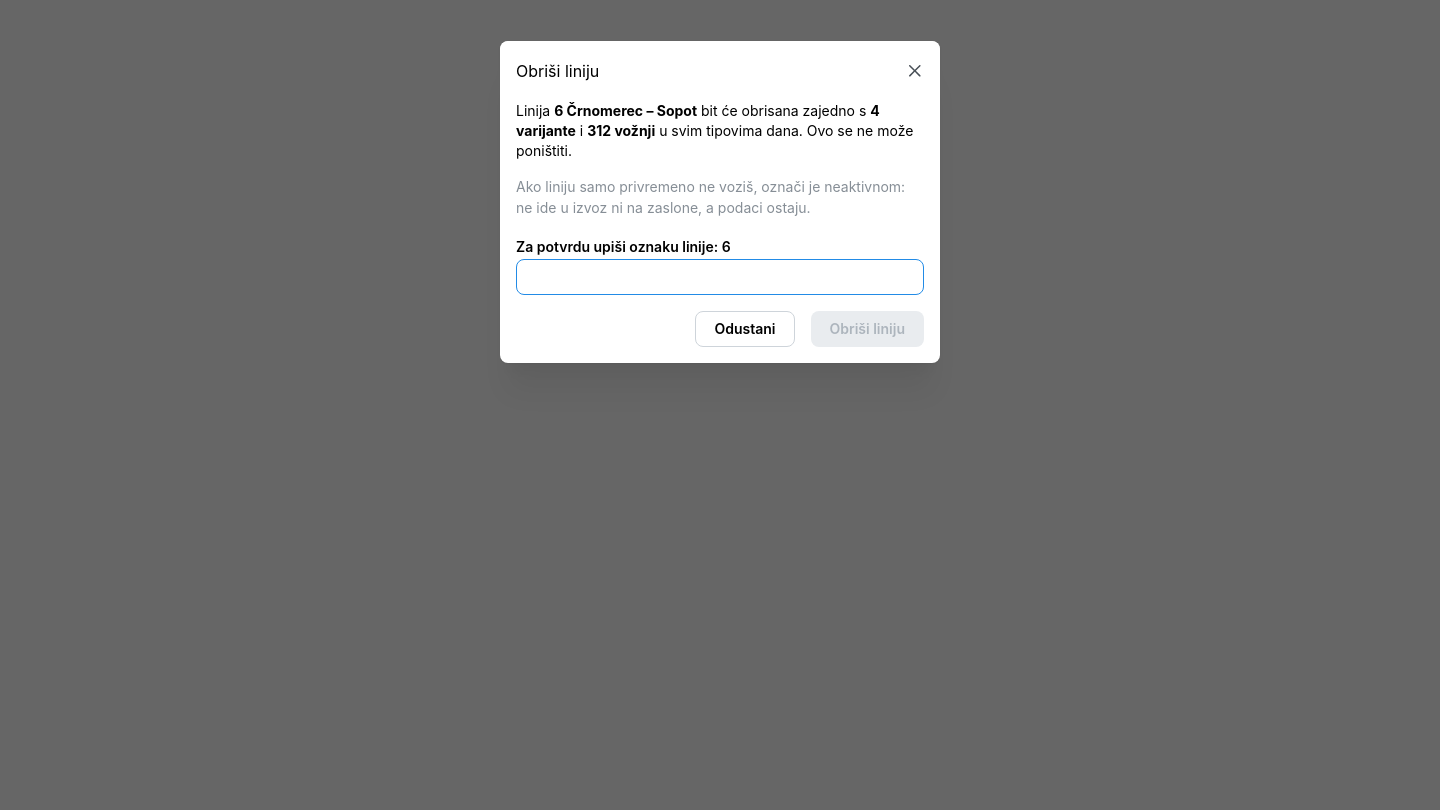
DeleteRouteDialog › names what goes with the route and waits for its label
Expected: the text "4 varijante" is shown, [516,102,880,139]
Expected: the text "312 vožnji" is shown, [587,122,655,139]
Type "6" into the field labelled "Za potvrdu upiši oznaku linije: 6" at (720, 277), box [516,259,924,295]
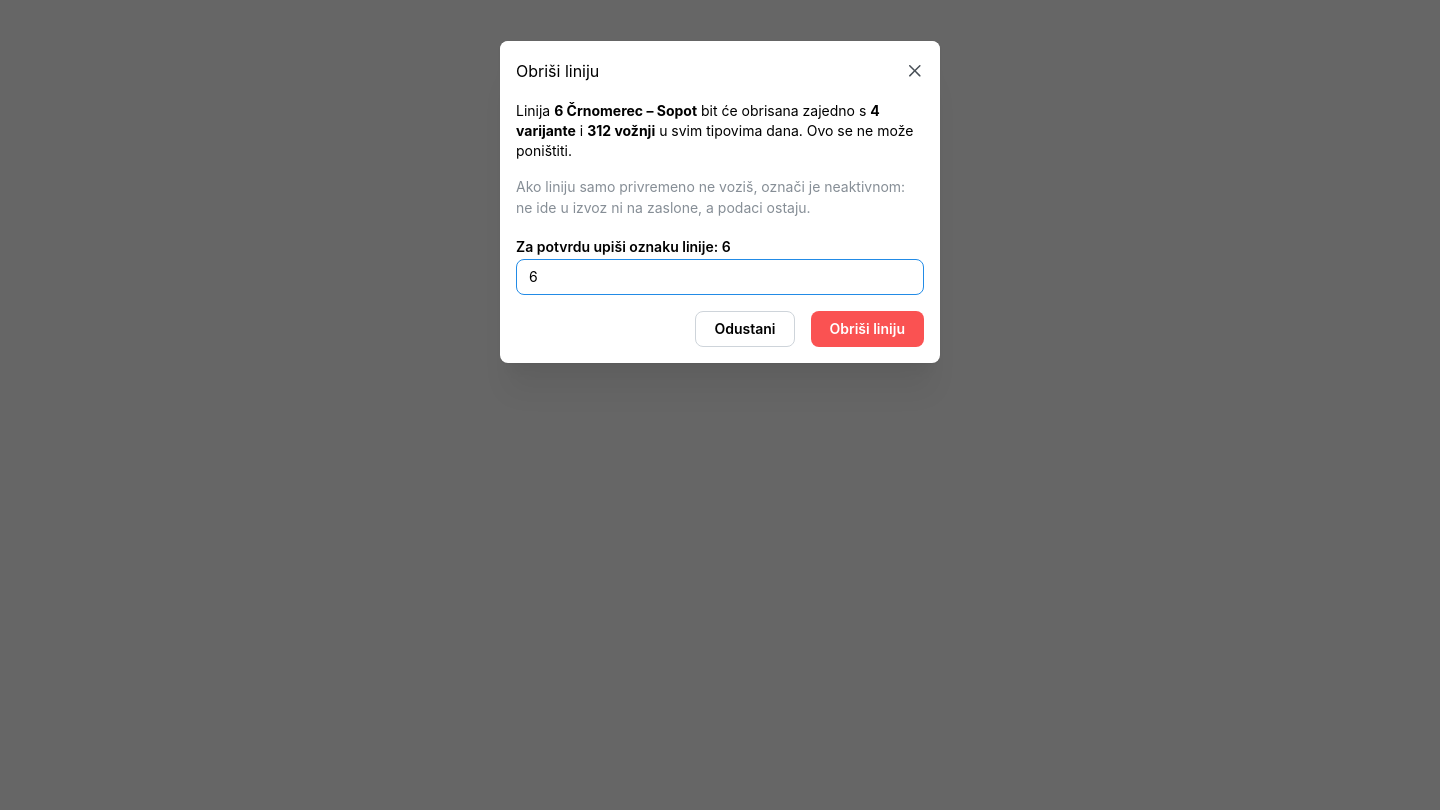
Result: the button "Obriši liniju" is enabled at [810,311,924,347]
